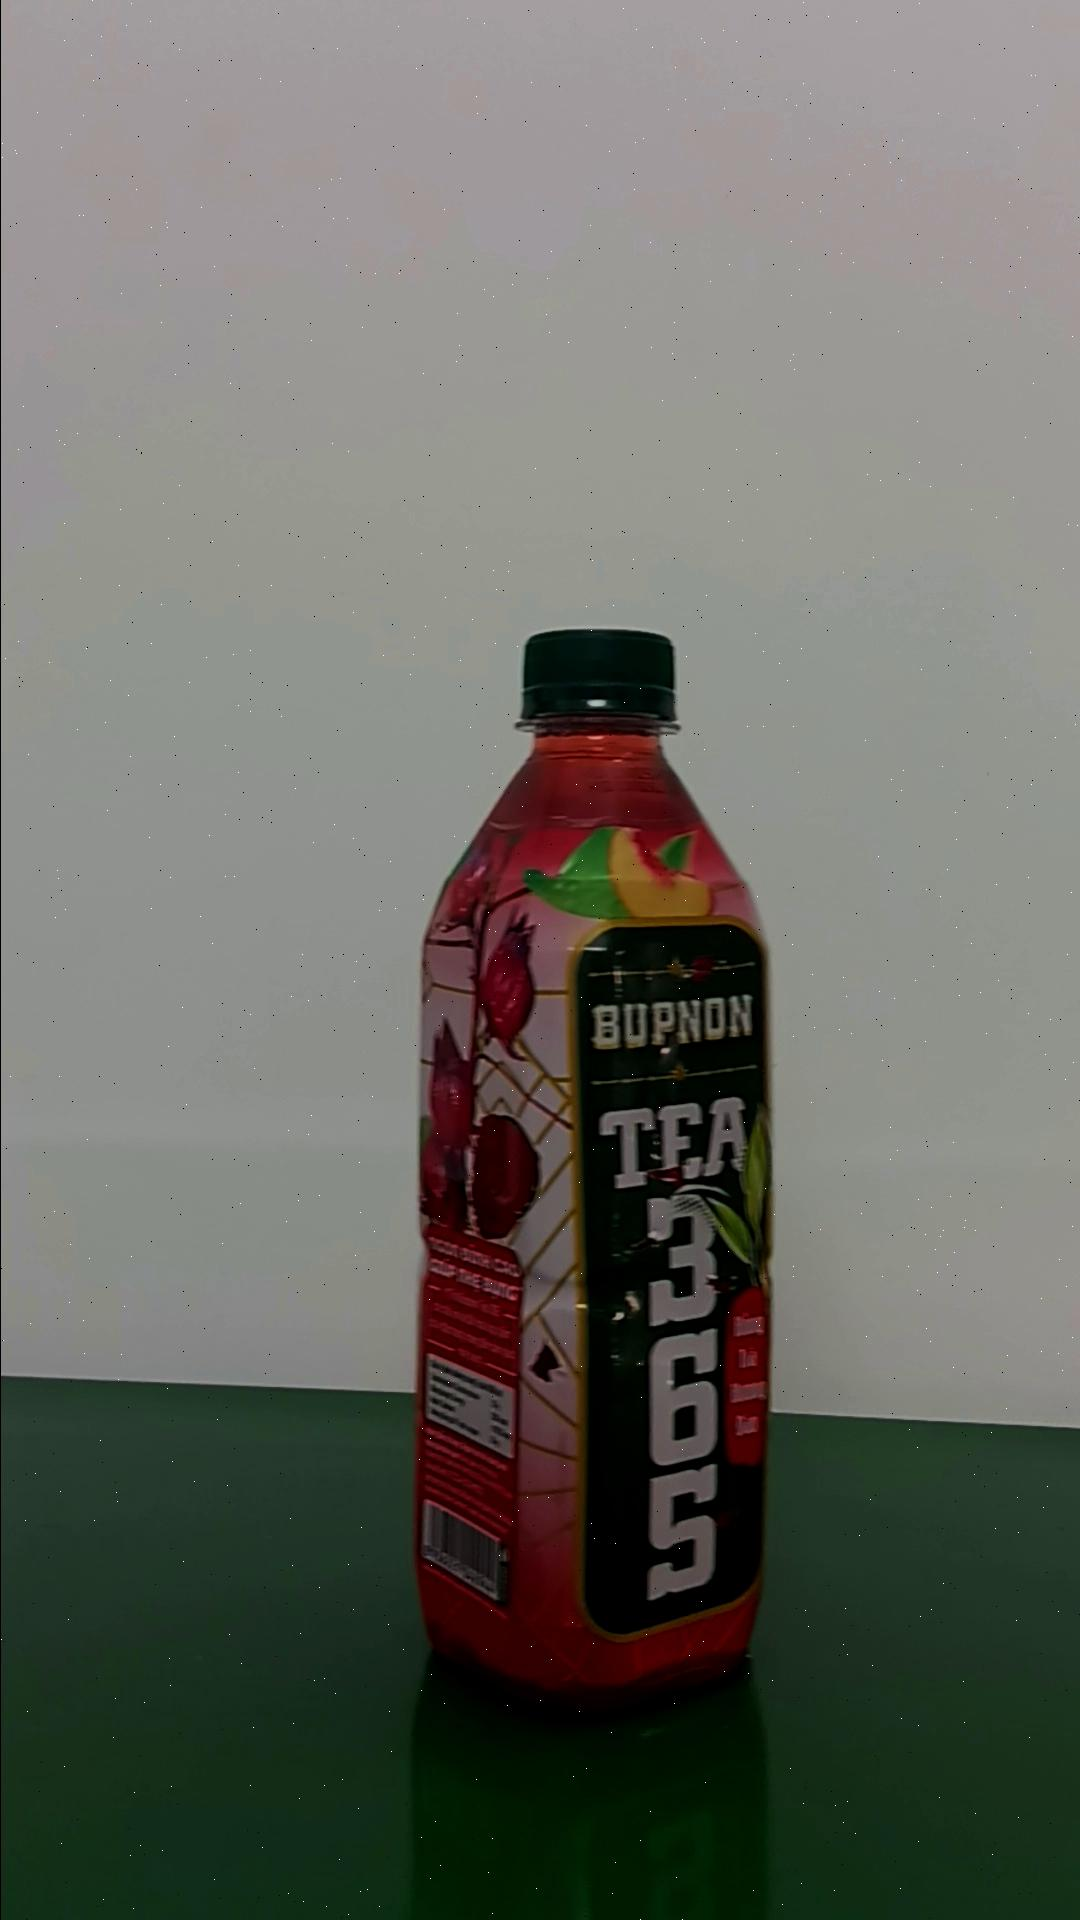loi rach va lap chai: (417, 624, 775, 1726)
